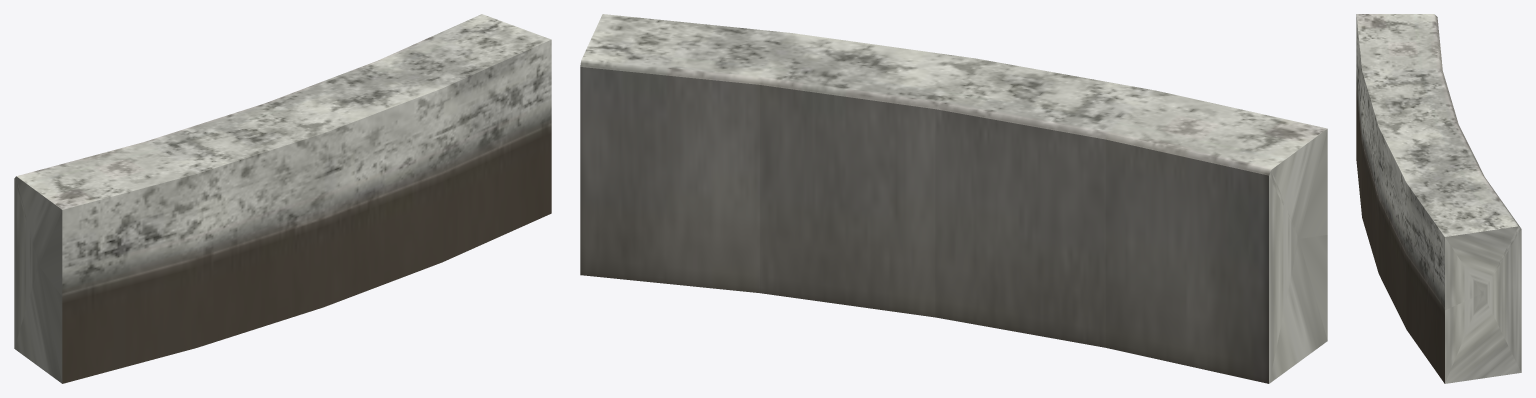
The model's file is curb_curve_r3_white_lod2_web.glb.
The picture shows the model from 3 angles, left to right: view 1: azimuth 30°, elevation 25°; view 2: azimuth 150°, elevation 25°; view 3: azimuth 270°, elevation 25°; orthographic projection. The views are drawn at different scales.
Parts seen in each view (by area): view 1: curb_curve_r3_white_Mesh; view 2: curb_curve_r3_white_Mesh; view 3: curb_curve_r3_white_Mesh.
Boxes of the visible parts, <box> form: curb_curve_r3_white_Mesh: <box>14,14,551,383</box>; curb_curve_r3_white_Mesh: <box>580,14,1327,383</box>; curb_curve_r3_white_Mesh: <box>1356,14,1521,383</box>.
Bounding box in the file's own units: 0.9769 × 0.3 × 0.3053.
Materials: 1 (1 with a texture image).
